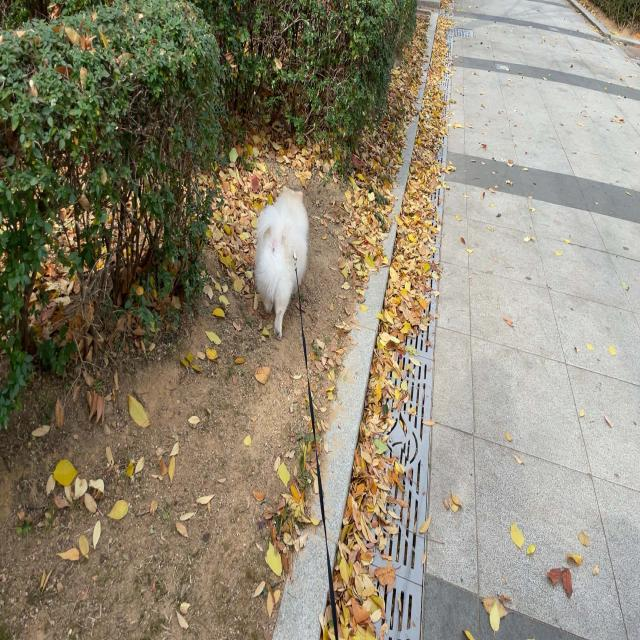Dog: (255, 187, 309, 341)
